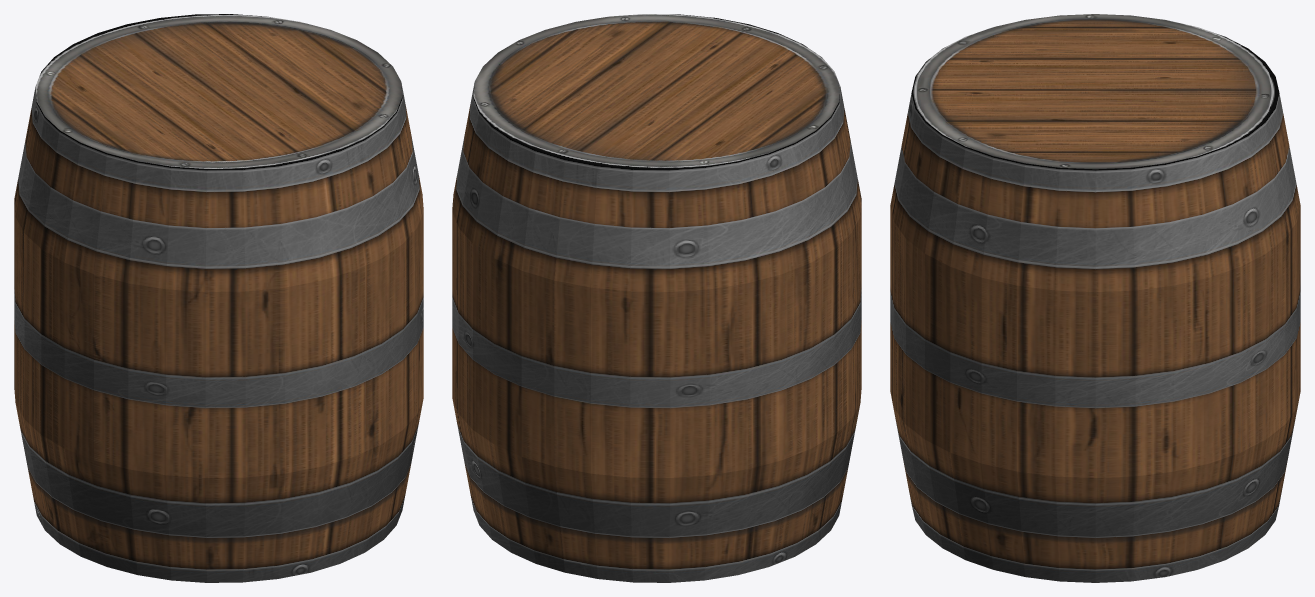
The picture shows the model from 3 angles, left to right: view 1: azimuth 30°, elevation 25°; view 2: azimuth 150°, elevation 25°; view 3: azimuth 270°, elevation 25°; orthographic projection.
Visible parts, largest first — view 1: Cylinder; view 2: Cylinder; view 3: Cylinder.
Boxes of the visible parts, x1,y1,x2,y2 form: Cylinder: (14,14,423,582); Cylinder: (452,14,861,582); Cylinder: (890,14,1300,582).
Size of the model in its own units: 2 by 2.23 by 2.
1 material, 1 textured.
